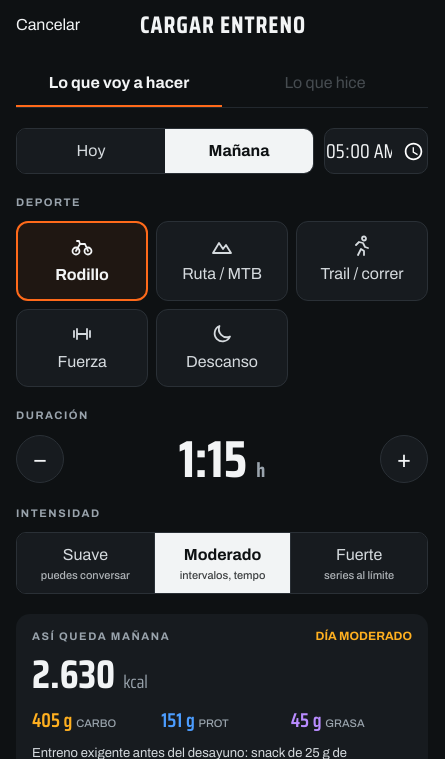
Test case: FormEntreno › 'Lo que hice' no se puede elegir para mañana
expect the tab "Lo que hice" is disabled: met, box 222,61 -> 428,107
Step 1. Click the button "Hoy" → coordinates (91, 151), box 17,129 -> 165,173
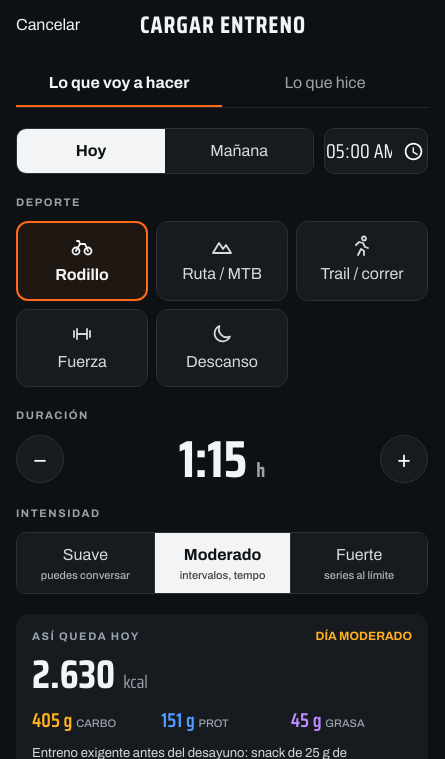
expect the tab "Lo que hice" is enabled: met, box 222,61 -> 428,107
